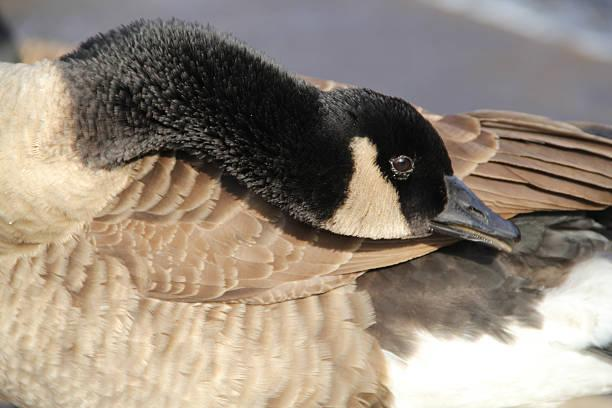Canadian-Goose: (0, 17, 612, 408)
